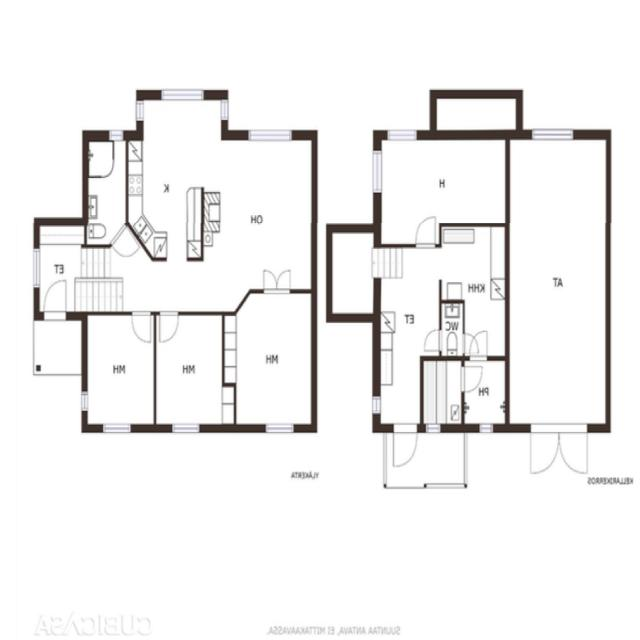door: (530, 424, 559, 473), (559, 424, 588, 473), (110, 225, 139, 268), (393, 424, 418, 466), (44, 281, 66, 320), (132, 312, 151, 342), (416, 217, 434, 247), (160, 312, 178, 342), (462, 367, 482, 392), (470, 331, 487, 360), (424, 330, 442, 350), (462, 334, 478, 353), (264, 271, 277, 293), (277, 271, 290, 293)
